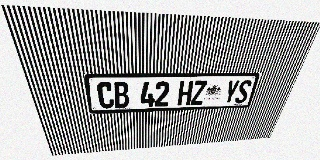2: (155, 81, 170, 106)
4: (140, 81, 155, 107)
B: (113, 82, 129, 108)
C: (96, 82, 114, 109)
H: (177, 81, 193, 106)
S: (234, 80, 253, 103)
Y: (222, 80, 240, 104)
Z: (190, 80, 207, 105)
